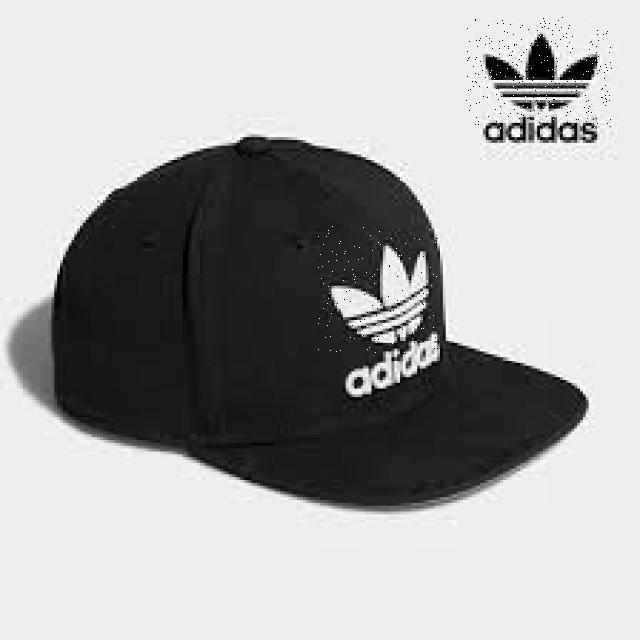Adidas: (466, 17, 612, 129), (317, 226, 440, 354)
